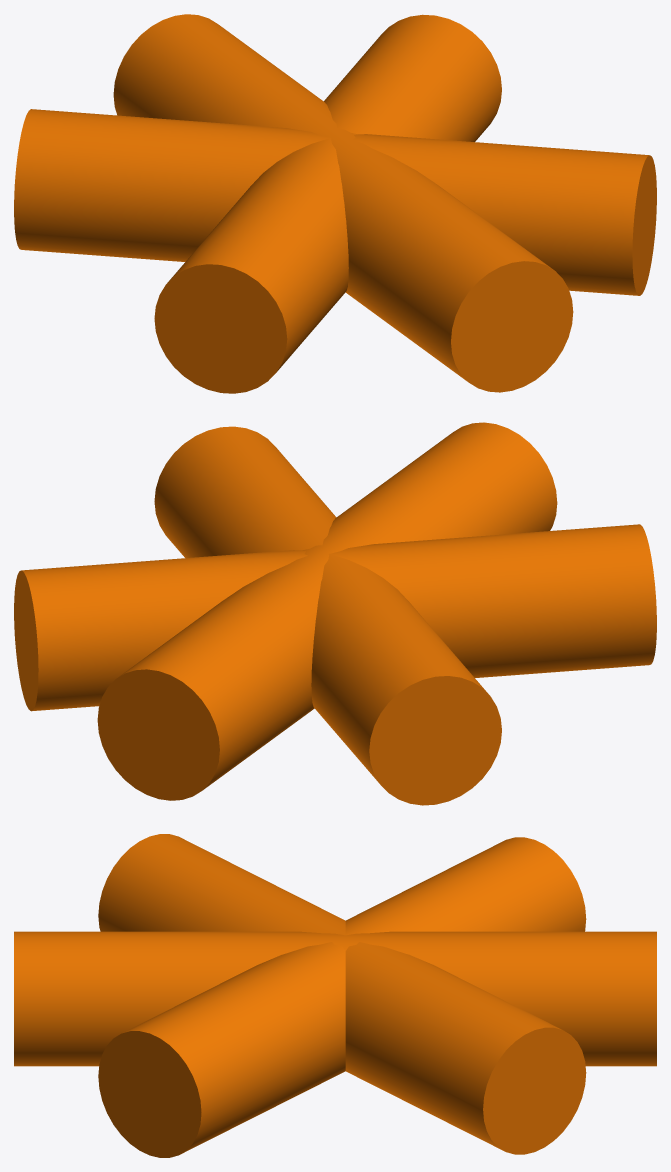
The model's file is Hoguera_Anastasia.fbx.
3 renders of one model, top to bottom at view 1: azimuth 30°, elevation 25°; view 2: azimuth 150°, elevation 25°; view 3: azimuth 270°, elevation 25°, orthographic. The views are drawn at different scales.
Visible parts, largest first — view 1: Cylinder, Cylinder.001; view 2: Cylinder, Cylinder.001; view 3: Cylinder, Cylinder.001.
Part boxes in pixels (left/top/right/bottom): Cylinder: left=14, top=14, right=656, bottom=393; Cylinder.001: left=113, top=14, right=573, bottom=392; Cylinder: left=14, top=426, right=656, bottom=805; Cylinder.001: left=97, top=422, right=557, bottom=800; Cylinder: left=98, top=834, right=586, bottom=1157; Cylinder.001: left=14, top=931, right=656, bottom=1066.
Bounding box in the file's own units: 66.44 × 16.27 × 77.25.
